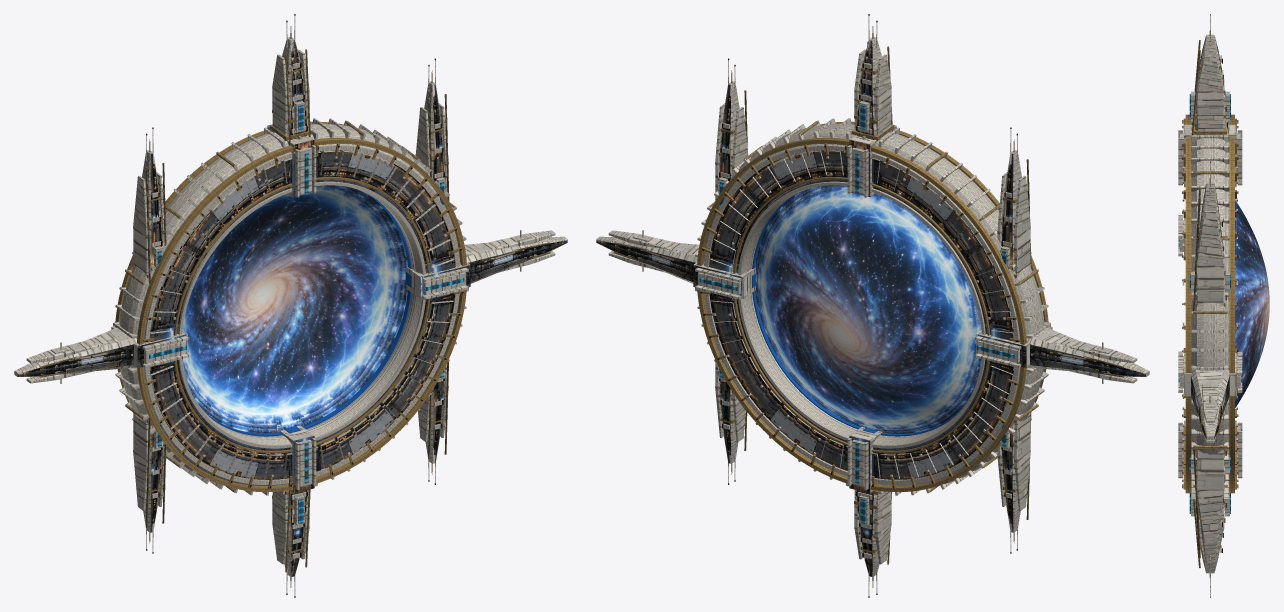
File: wormhole-hub.obj
3 renders of one model, left to right at view 1: azimuth 30°, elevation 25°; view 2: azimuth 150°, elevation 25°; view 3: azimuth 270°, elevation 25°, orthographic.
Visible parts, largest first — view 1: wormhole.energy-membrane, ring.main-beveled-structure, ring.outer-track.1, ring.outer-recess.1, ring.inner-track.1, dock.-1.spine, ring.inner-brass-rail.1, dock.1.spine, field.containment-lip, tower.flank.-1.1.rib.-1, tower.flank.-1.-1.rib.-1, tower.flank.-1.1.core (+8 smaller); view 2: wormhole.energy-membrane, ring.main-beveled-structure, ring.outer-track.-1, ring.outer-recess.-1, ring.inner-track.-1, dock.-1.spine, ring.inner-brass-rail.-1, dock.1.spine, tower.flank.-1.1.rib.-1, tower.flank.-1.-1.rib.-1, field.containment-lip, tower.flank.-1.1.core (+9 smaller); view 3: ring.main-beveled-structure, wormhole.energy-membrane, ring.outer-track.1, tower.flank.1.1.rib.1, tower.flank.1.-1.rib.1, ring.outer-track.-1, tower.central.1.rib.1, dock.1.spine, tower.flank.1.1.core, dock.1.rail.0.3, tower.central.1.core, emitter.0.housing (+18 smaller).
Part boxes in pixels (box(x1,y1,x2,y2)): wormhole.energy-membrane: box(182, 185, 407, 433); ring.main-beveled-structure: box(119, 123, 460, 485); ring.outer-track.1: box(137, 137, 466, 492); ring.outer-recess.1: box(144, 145, 459, 484); ring.inner-track.1: box(178, 181, 425, 448); dock.-1.spine: box(14, 328, 137, 376); ring.inner-brass-rail.1: box(173, 177, 430, 453); dock.1.spine: box(460, 236, 567, 283); field.containment-lip: box(201, 191, 411, 436); tower.flank.-1.1.rib.-1: box(133, 175, 149, 276); tower.flank.-1.-1.rib.-1: box(133, 413, 149, 510); tower.flank.-1.1.core: box(142, 150, 162, 271); wormhole.energy-membrane: box(755, 185, 981, 433); ring.main-beveled-structure: box(703, 123, 1044, 485); ring.outer-track.-1: box(697, 137, 1026, 492); ring.outer-recess.-1: box(704, 145, 1019, 484); ring.inner-track.-1: box(738, 181, 985, 448); dock.-1.spine: box(1026, 328, 1149, 376); ring.inner-brass-rail.-1: box(733, 177, 990, 453); dock.1.spine: box(596, 236, 703, 283); tower.flank.-1.1.rib.-1: box(1014, 175, 1030, 276); tower.flank.-1.-1.rib.-1: box(1014, 413, 1030, 510); field.containment-lip: box(752, 191, 962, 436); tower.flank.-1.1.core: box(1001, 150, 1021, 271); ring.main-beveled-structure: box(1191, 138, 1229, 488); wormhole.energy-membrane: box(1235, 200, 1269, 408); ring.outer-track.1: box(1185, 114, 1191, 493); tower.flank.1.1.rib.1: box(1196, 211, 1224, 305); tower.flank.1.-1.rib.1: box(1196, 449, 1224, 542); ring.outer-track.-1: box(1229, 114, 1234, 493); tower.central.1.rib.1: box(1196, 55, 1224, 135); dock.1.spine: box(1191, 370, 1229, 440); tower.flank.1.1.core: box(1195, 182, 1224, 299); dock.1.rail.0.3: box(1201, 382, 1218, 423); tower.central.1.core: box(1194, 34, 1225, 129); emitter.0.housing: box(1184, 353, 1236, 396).
Bounding box in the file's own units: 17.1 × 17.34 × 2.47.
9 materials, 7 textured.
